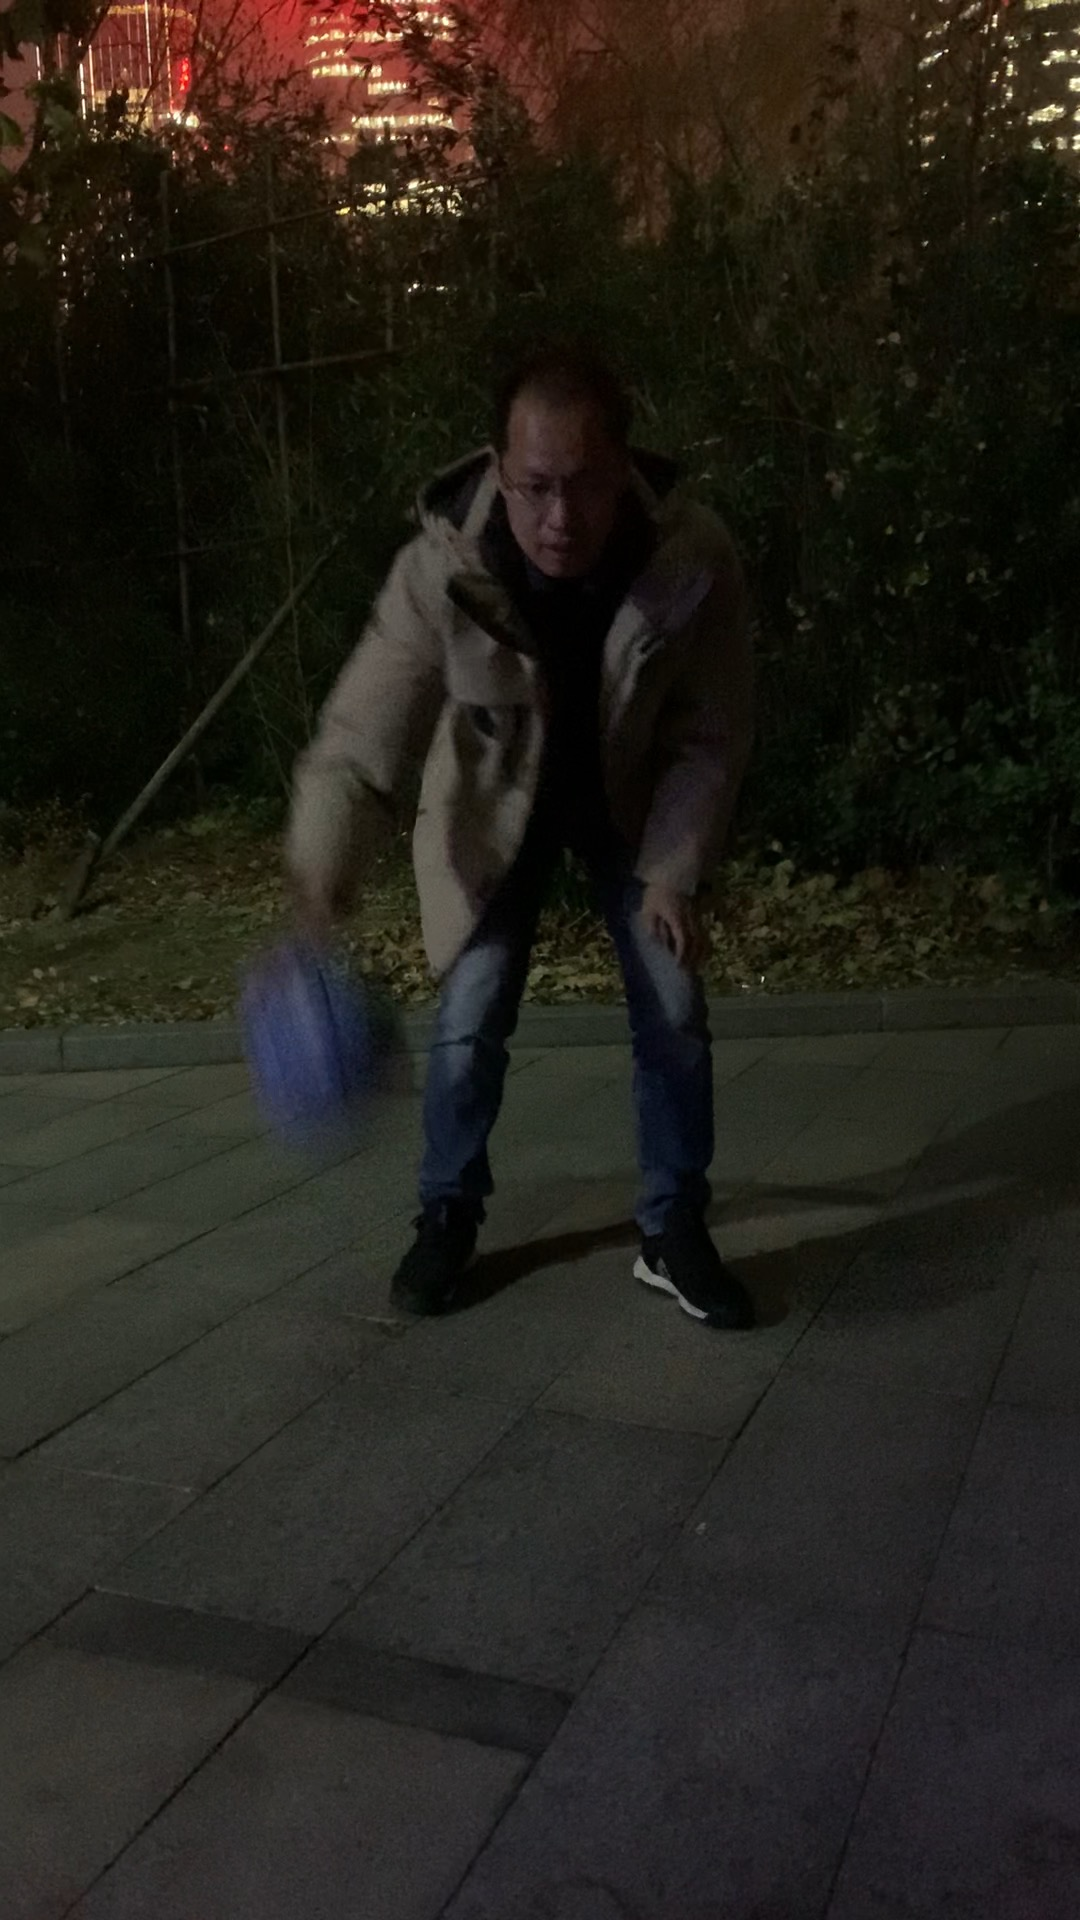ball: (248, 968, 411, 1145)
